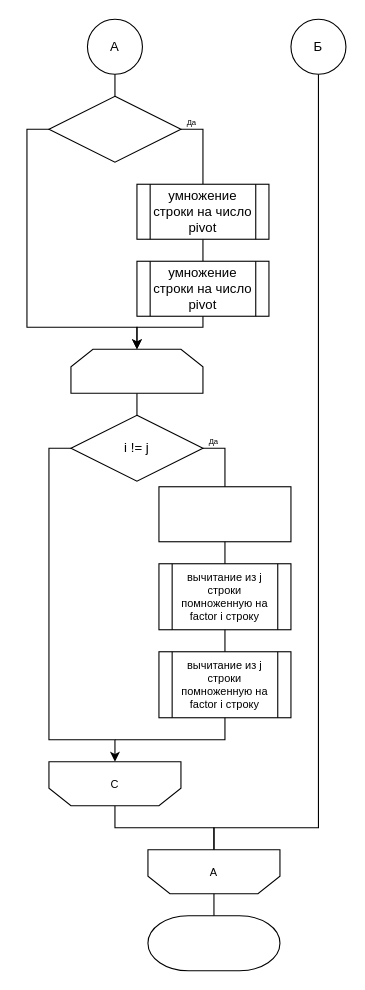
The diagram is 365 pixels wide and 990 high, and some of its shapes have lost their labels. The centre of each missing label's shape, as x and y in pixels:
"factor = matrix[i][i]" belongs at [224,514].
"pivot != 1" belongs at [114,128].
"Конец" belongs at [213,943].
"С j < n" belongs at [136,370].
